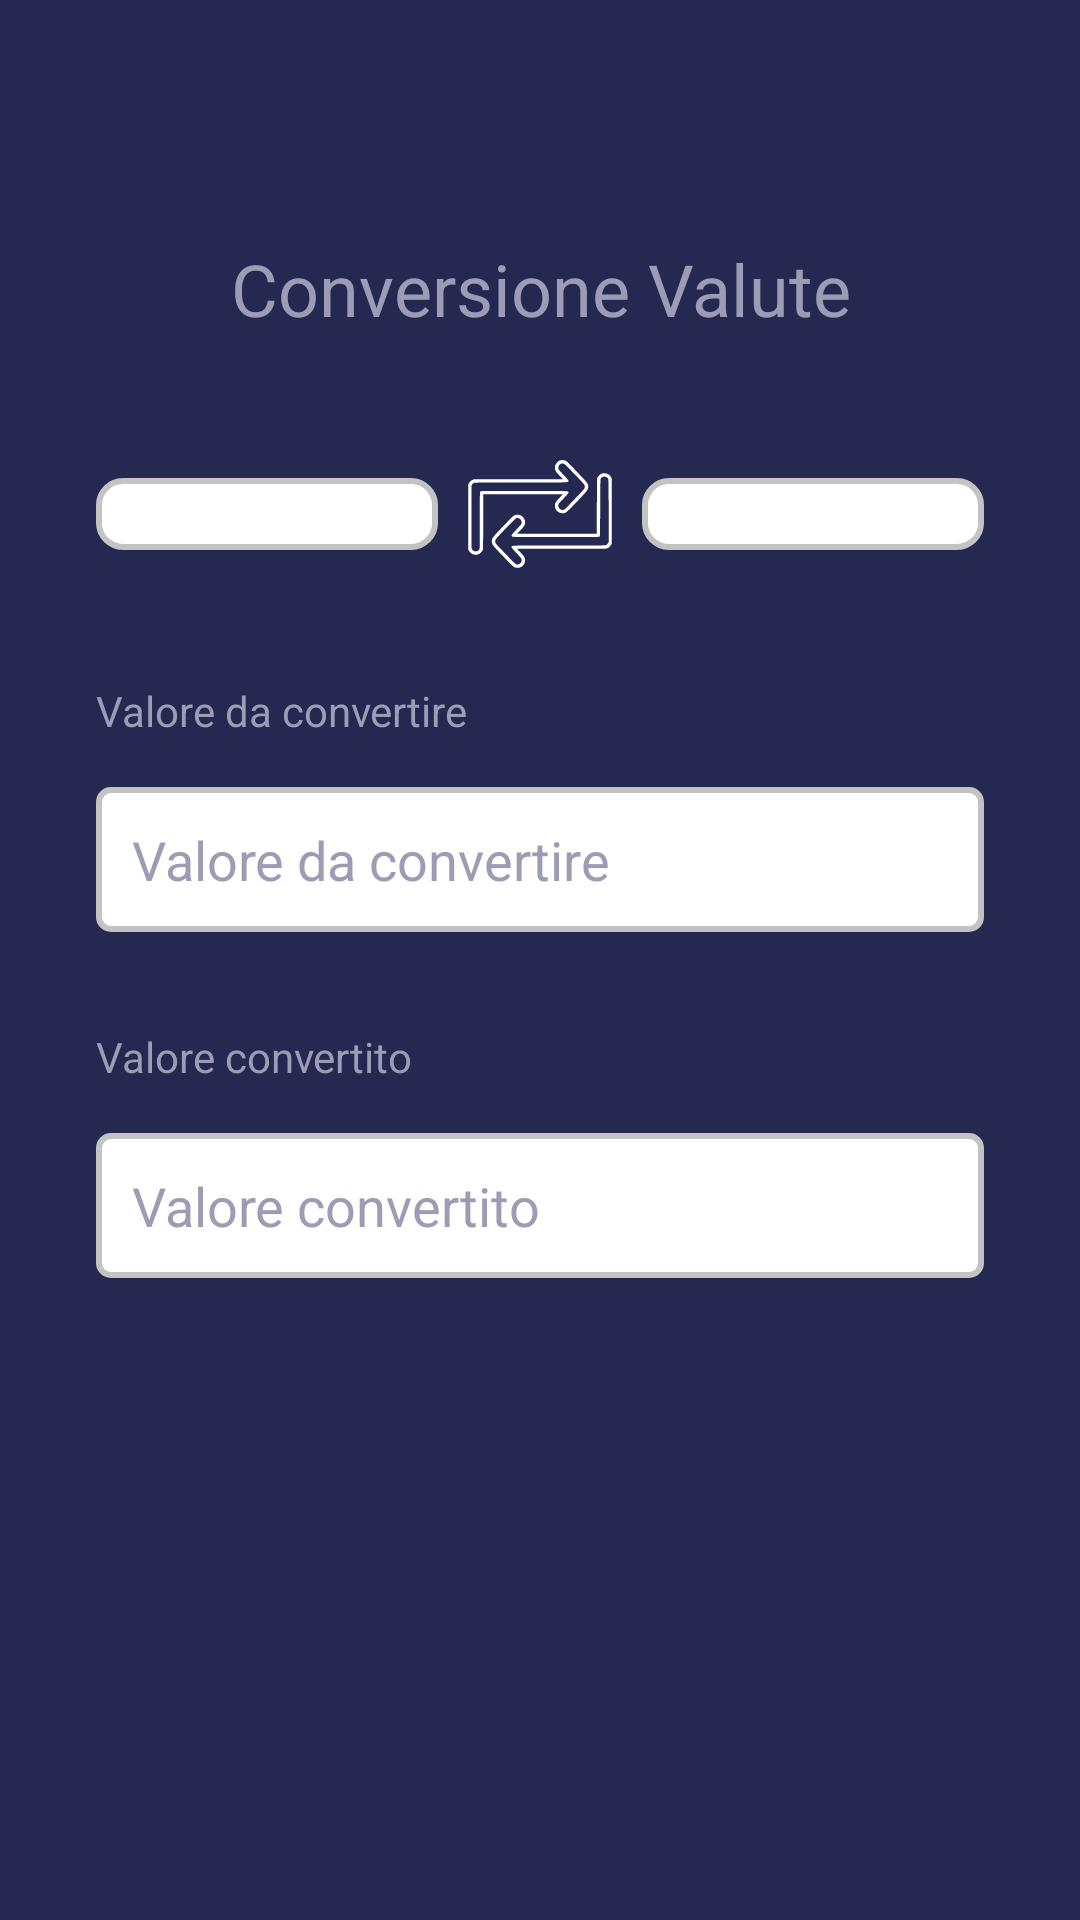

Screen size 1080*1920. Icon name, then its center in pixels as point (x, y):
exchange tranfer: point (540, 514)
